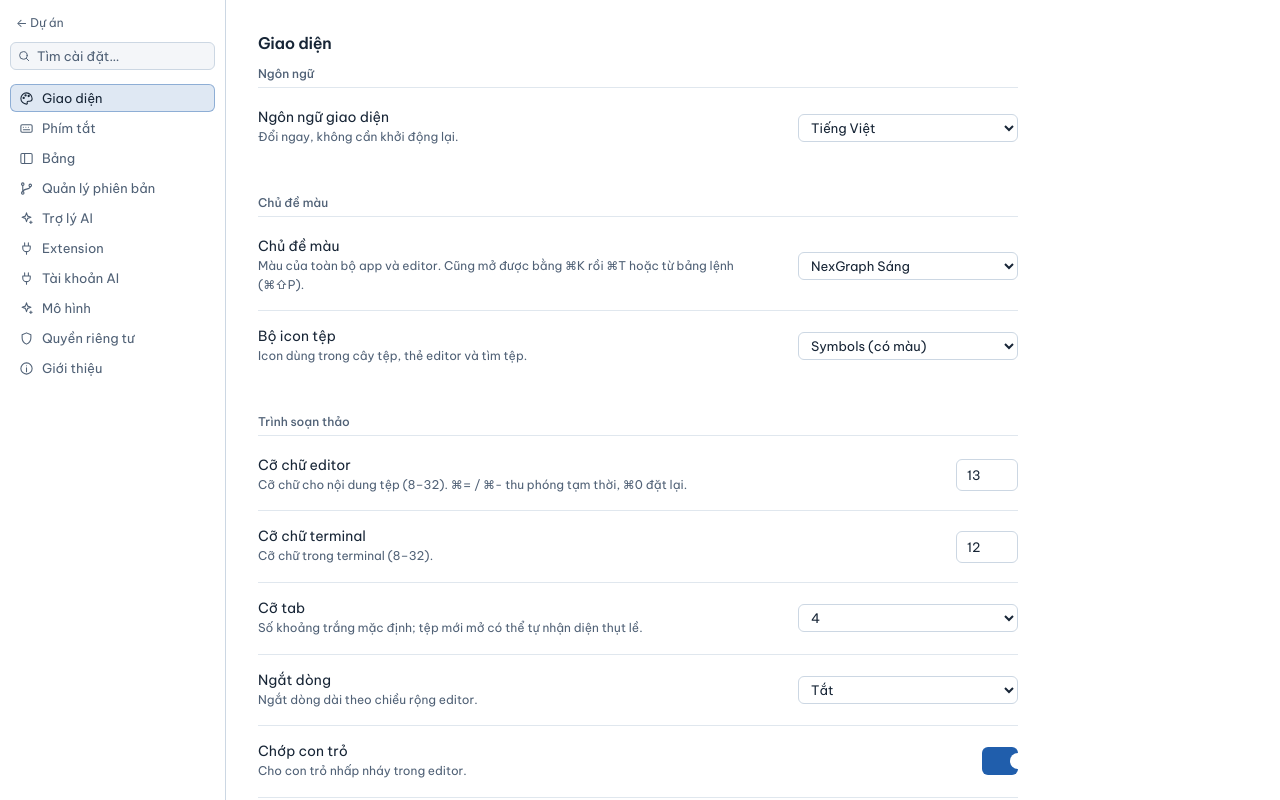
Scenario: clamps invalid numeric drafts on blur without overwriting a valid setting while typing
This screenshot has width=1280, height=800.
Clear the number field labelled "Cỡ chữ editor": (987, 475) [956,459,1018,491]
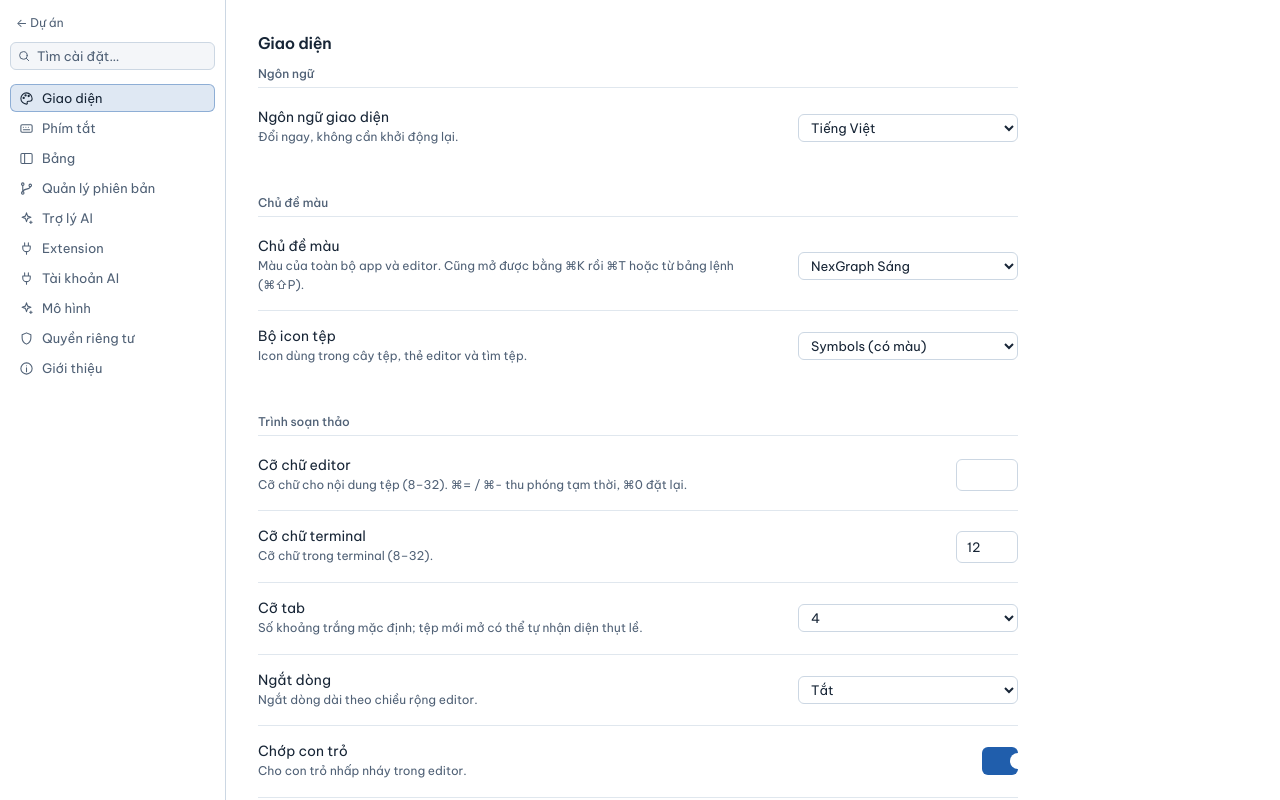
Leave the number field labelled "Cỡ chữ editor", box [956,459,1018,491]
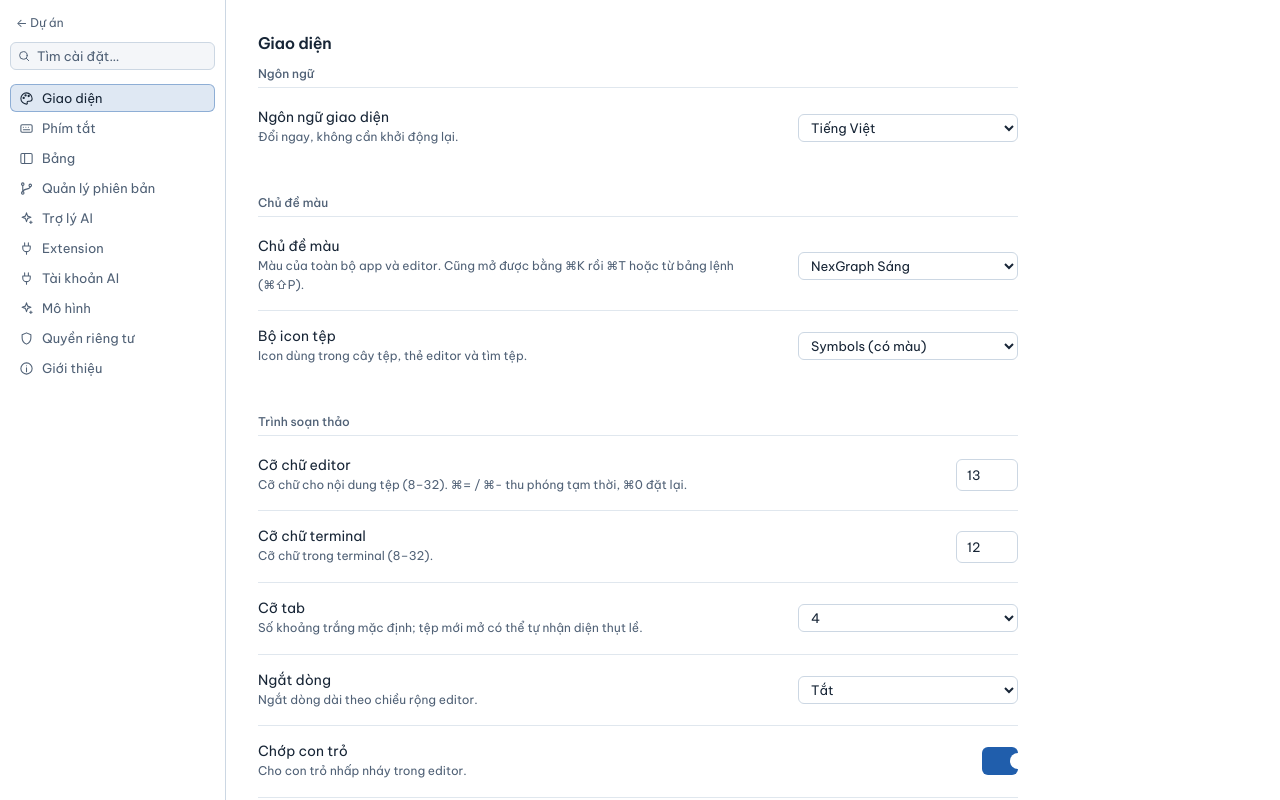
expect the number field labelled "Cỡ chữ editor" holds "13": met
Replace the text in the number field labelled "Cỡ chữ editor" with "100": (987, 475) [956,459,1018,491]
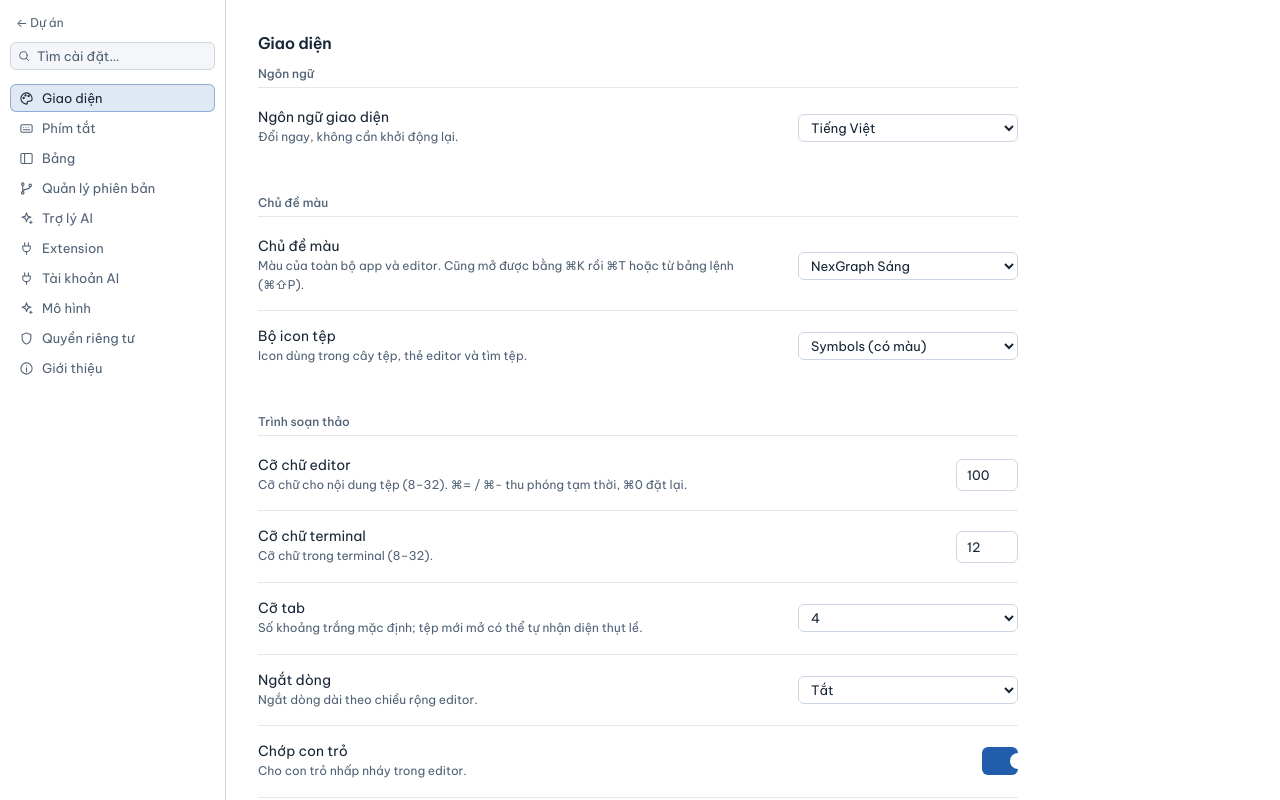
Leave the number field labelled "Cỡ chữ editor", box [956,459,1018,491]
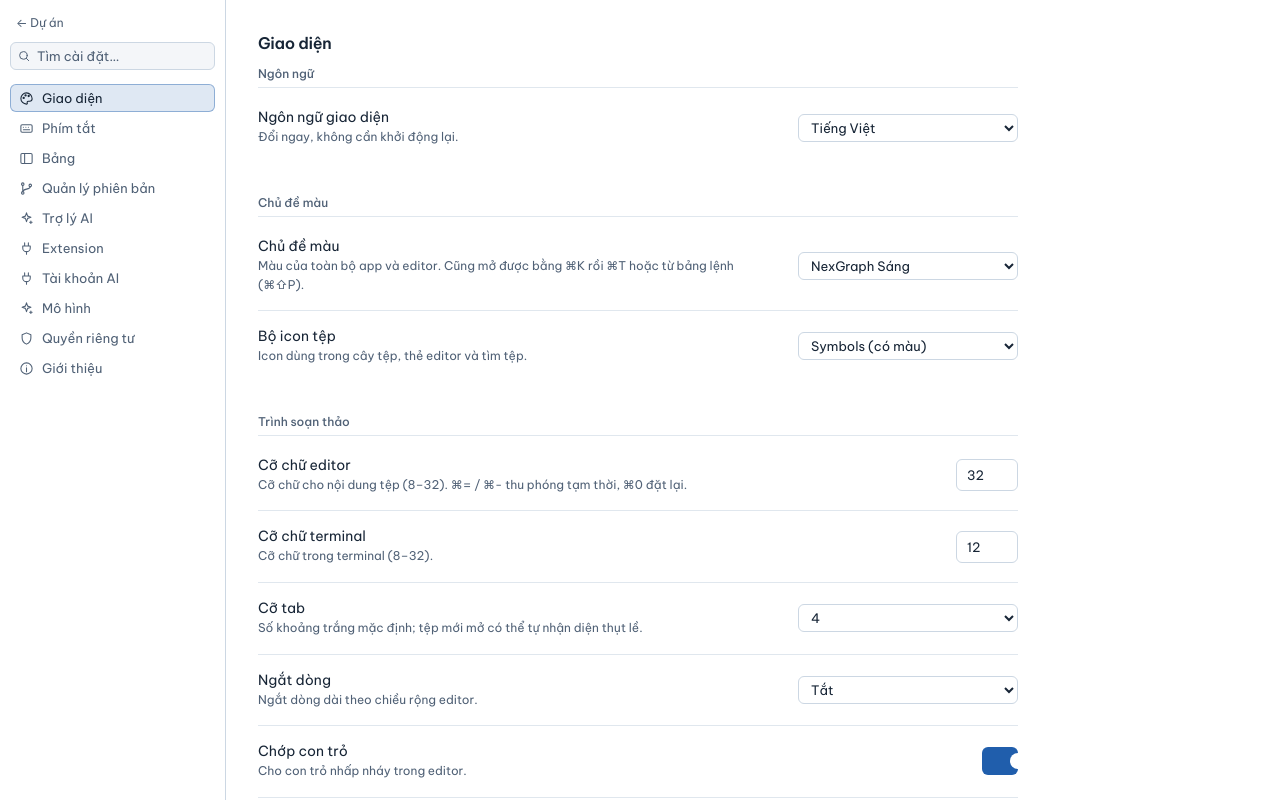
expect the number field labelled "Cỡ chữ editor" holds "32": met, box [956,459,1018,491]
